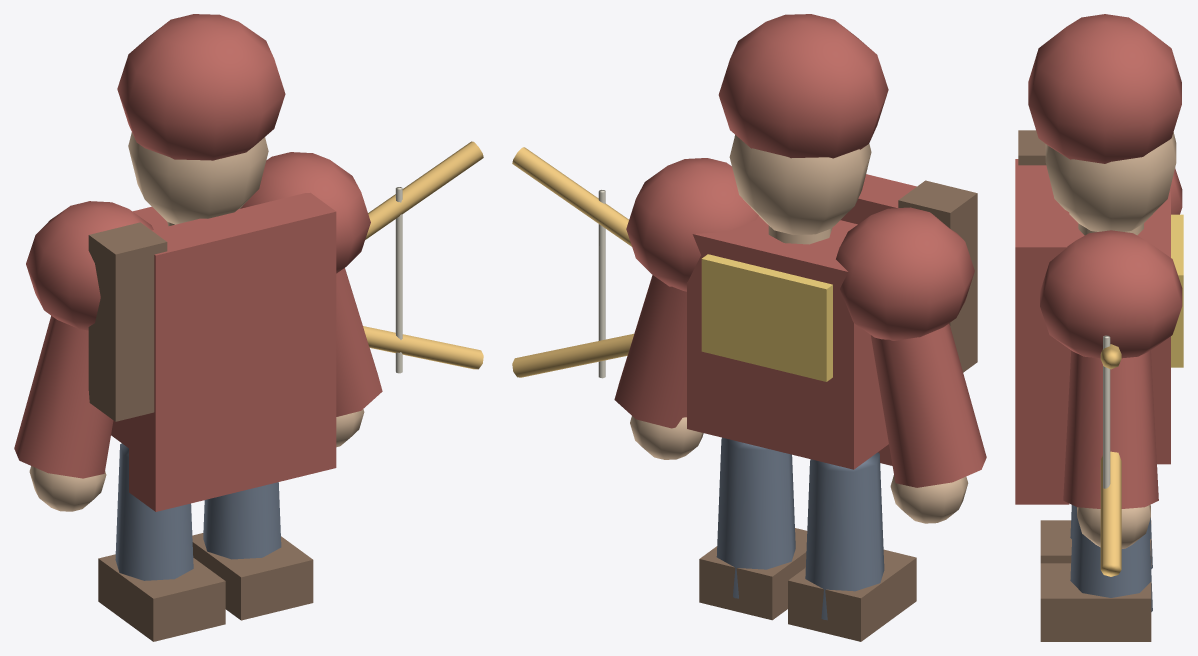
The model's file is huntress.glb.
3 views of the same model, side by side, from view 1: azimuth 30°, elevation 25°; view 2: azimuth 150°, elevation 25°; view 3: azimuth 270°, elevation 25° (orthographic).
Visible parts, largest first — view 1: Cloak, Hood, Quiver, Arm_-1, Shoulder_-1, Head, Boot_-1, Leg_-1, Shoulder_1, Boot_1, Leg_1, Arm_1 (+6 smaller); view 2: Torso, Hood, Shoulder_-1, Arm_-1, ChestPlate, Shoulder_1, Leg_-1, Leg_1, Head, Arm_1, Boot_-1, Boot_1 (+7 smaller); view 3: Hood, Cloak, Shoulder_1, Arm_1, Head, Boot_1, Leg_1, Torso, BowLower, Hand_1, ChestPlate, Boot_-1 (+4 smaller).
Boxes of the visible parts, <box> form: Cloak: <box>129,192,336,511</box>; Hood: <box>117,14,285,160</box>; Quiver: <box>88,222,167,421</box>; Arm_-1: <box>14,315,113,478</box>; Shoulder_-1: <box>26,201,153,330</box>; Head: <box>128,132,268,224</box>; Boot_-1: <box>98,554,225,641</box>; Leg_-1: <box>115,443,193,580</box>; Shoulder_1: <box>240,152,370,273</box>; Boot_1: <box>192,533,313,620</box>; Leg_1: <box>203,482,281,559</box>; Arm_1: <box>336,268,382,416</box>; Torso: <box>687,215,888,469</box>; Hood: <box>718,14,888,158</box>; Shoulder_-1: <box>836,207,974,340</box>; Arm_-1: <box>871,323,986,487</box>; ChestPlate: <box>701,254,832,381</box>; Shoulder_1: <box>626,158,758,291</box>; Leg_-1: <box>805,452,884,620</box>; Leg_1: <box>716,437,795,598</box>; Head: <box>729,135,871,234</box>; Arm_1: <box>614,275,686,428</box>; Boot_-1: <box>788,549,916,641</box>; Boot_1: <box>699,528,807,620</box>; Hood: <box>1028,14,1181,163</box>; Cloak: <box>1015,159,1069,504</box>; Shoulder_1: <box>1040,230,1182,358</box>; Arm_1: <box>1063,350,1158,508</box>; Head: <box>1045,132,1176,231</box>; Boot_1: <box>1040,563,1151,641</box>; Leg_1: <box>1070,506,1152,611</box>; Torso: <box>1069,191,1170,464</box>; BowLower: <box>1100,451,1121,576</box>; Hand_1: <box>1077,504,1150,548</box>; ChestPlate: <box>1171,214,1183,367</box>; Boot_-1: <box>1040,520,1151,563</box>.
Size of the model in its own units: 1.79 by 2.14 by 0.5625.
